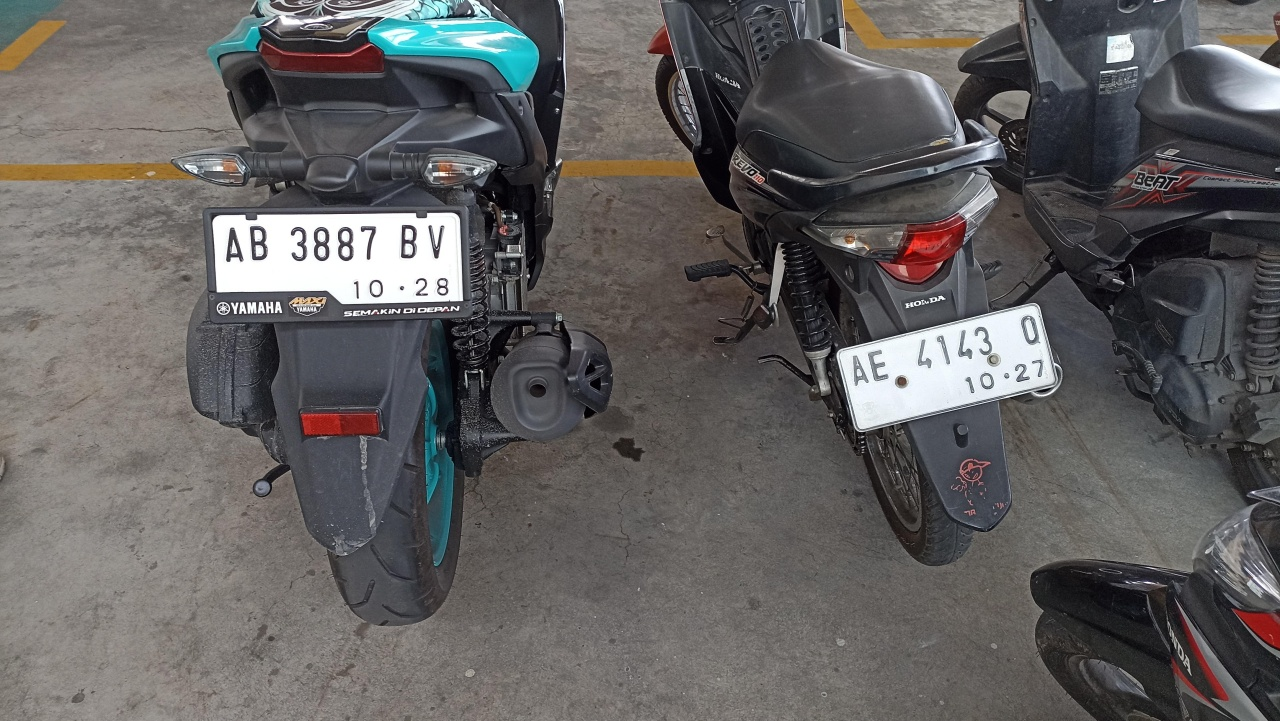plate: (206, 208, 470, 323), (837, 302, 1059, 432)
